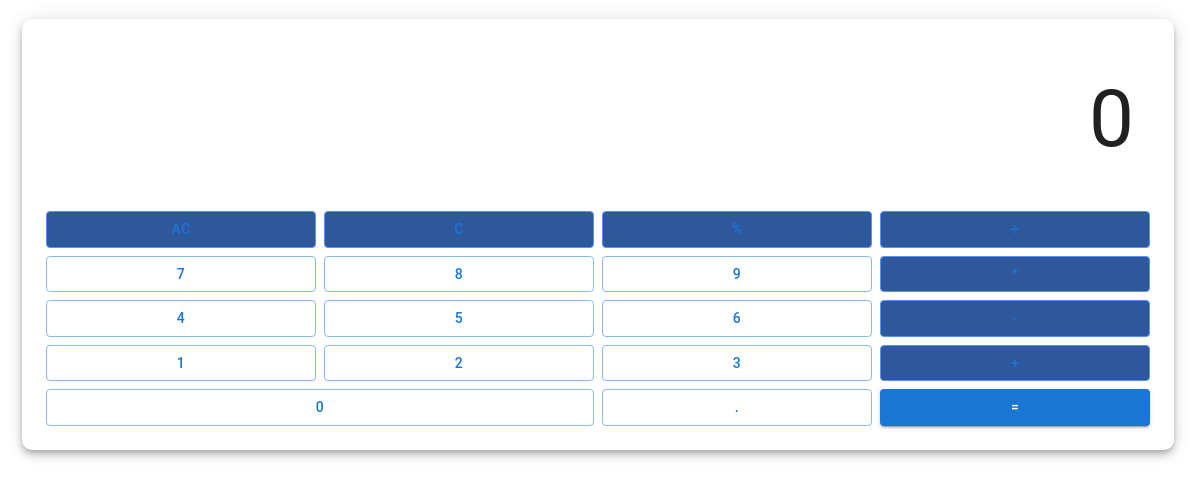
Test: calculator tests › Multiplication test
Click the button "4". click: x=181, y=318
box: [46,300,316,336]
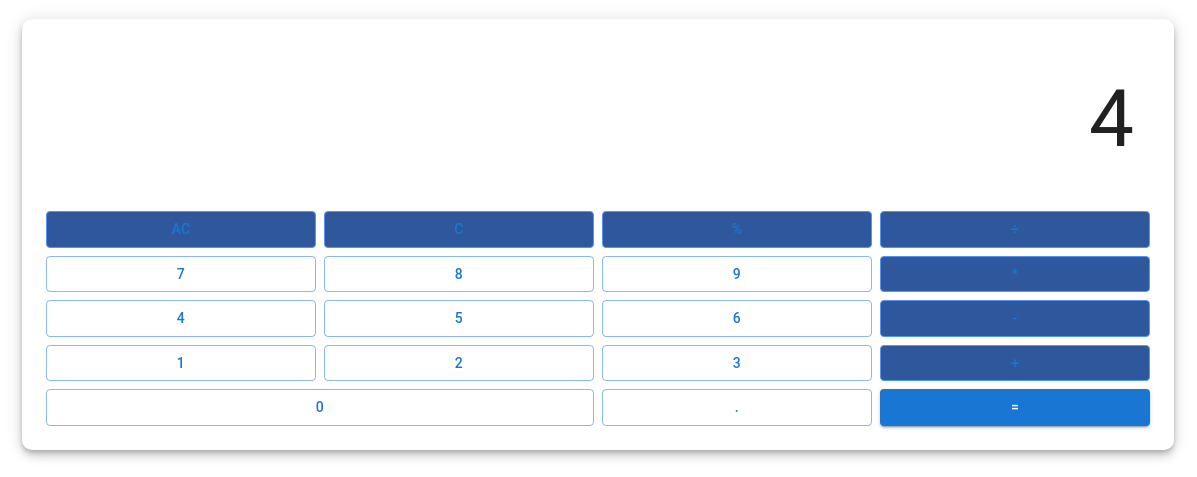
Click the button "5". click: x=459, y=318
box: [324,300,594,336]
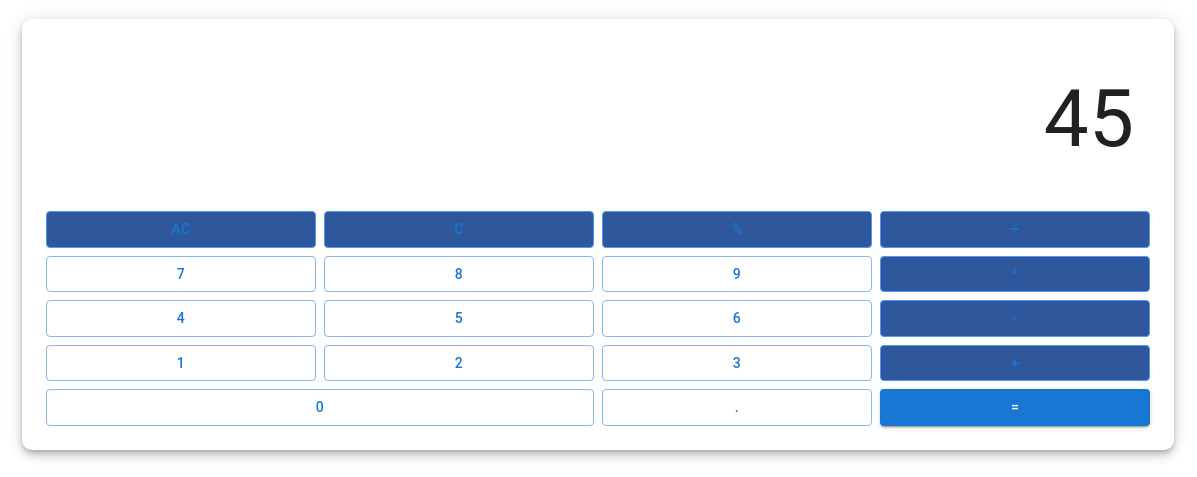
Click the button "*". click: x=1015, y=274
box: [880,256,1150,292]
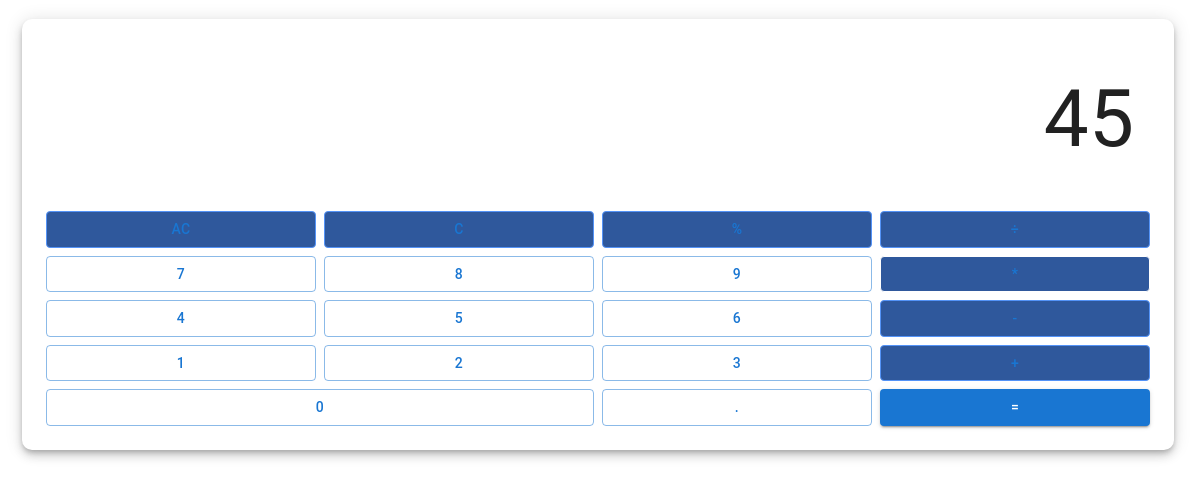
Click the button "1". click: x=181, y=363
box: [46,344,316,381]
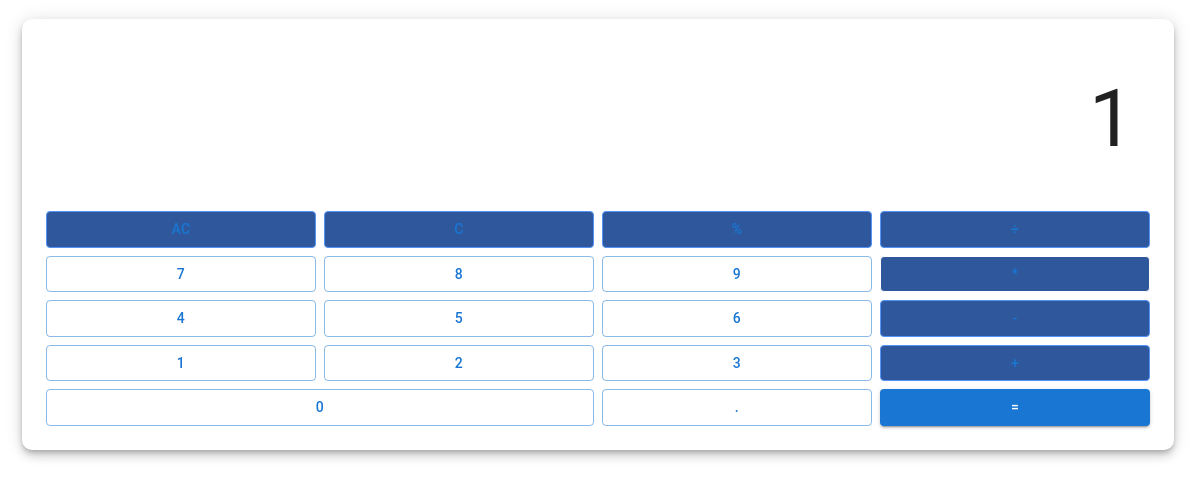
Click the button "2". click: x=459, y=363
box: [324,344,594,381]
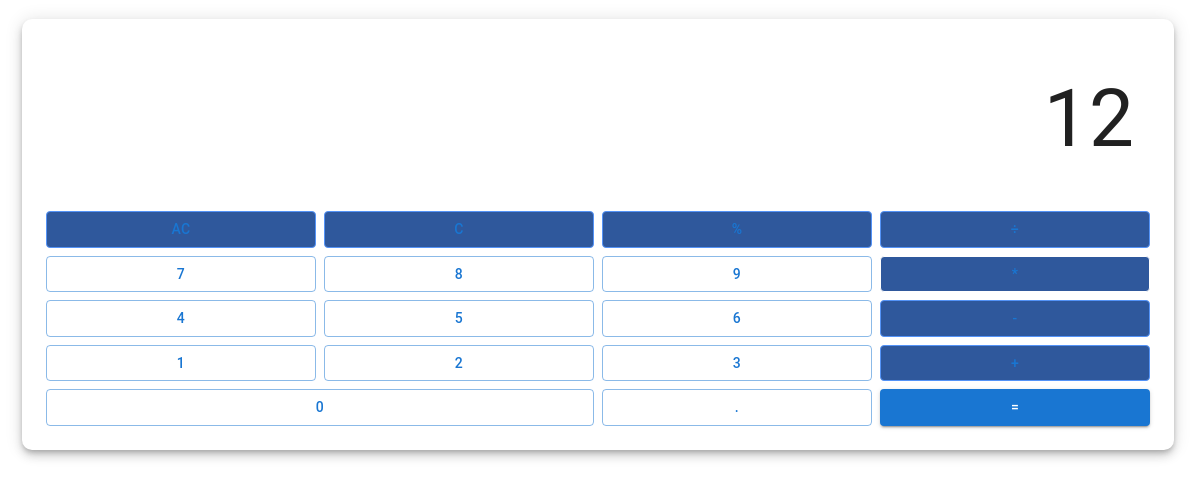
Click the button "=". click: x=1015, y=407
box: [880,389,1150,426]
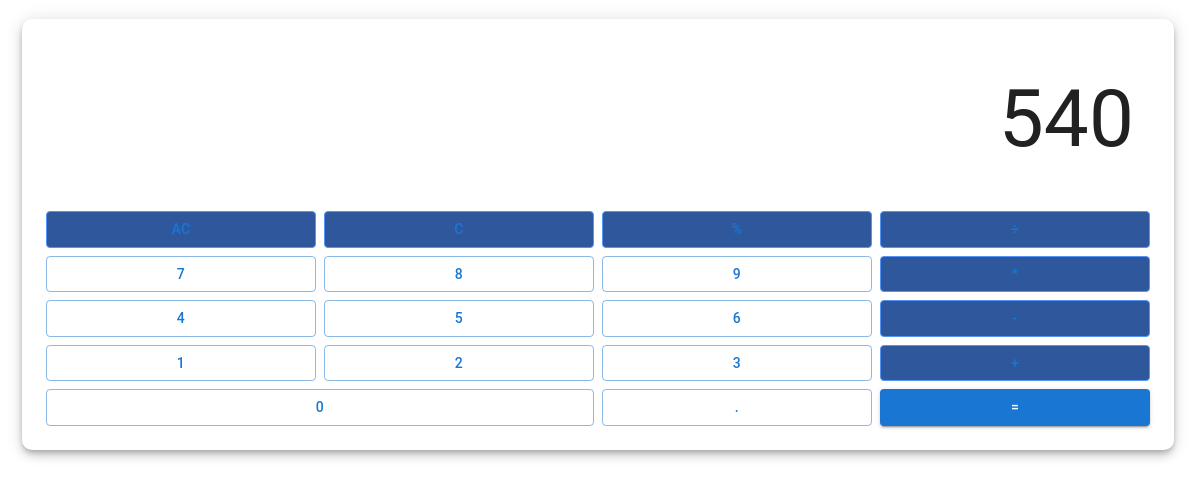
Now the text with test id "output" reads "540", box [999,72,1134,166]
